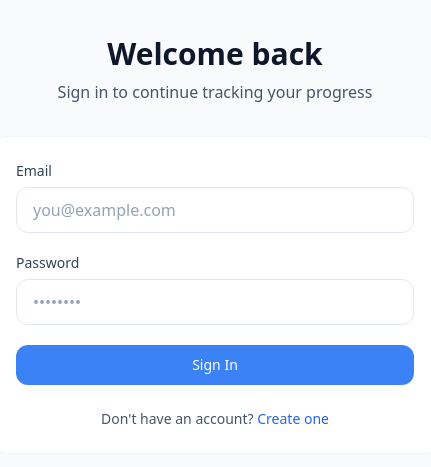
Test: Login Page › clears field errors when user starts typing
Trigger validation error
Click the button "Sign In" at (215,365), box [16,345,414,385]
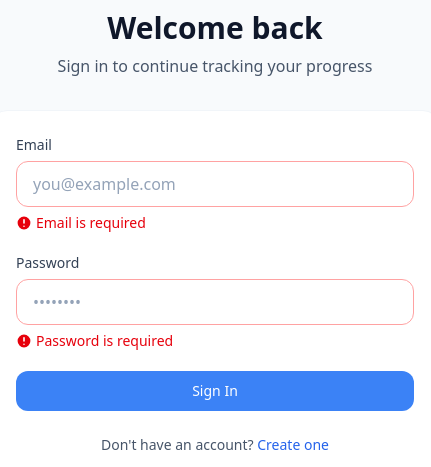
Expected: the text "Email is required" is shown, [16,213,146,232]
Start typing to clear error
Type "test@example.com" into the field labelled "Email" at (215,184), box [16,161,414,207]
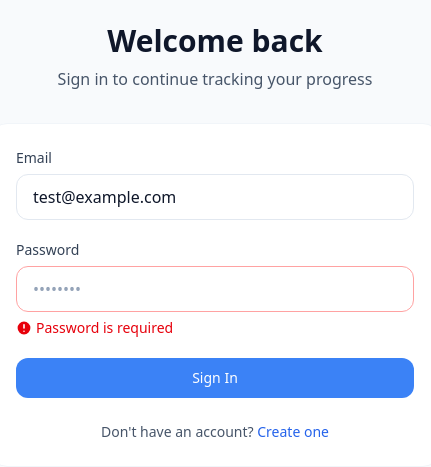
Expected: the text "Email is required" is gone
